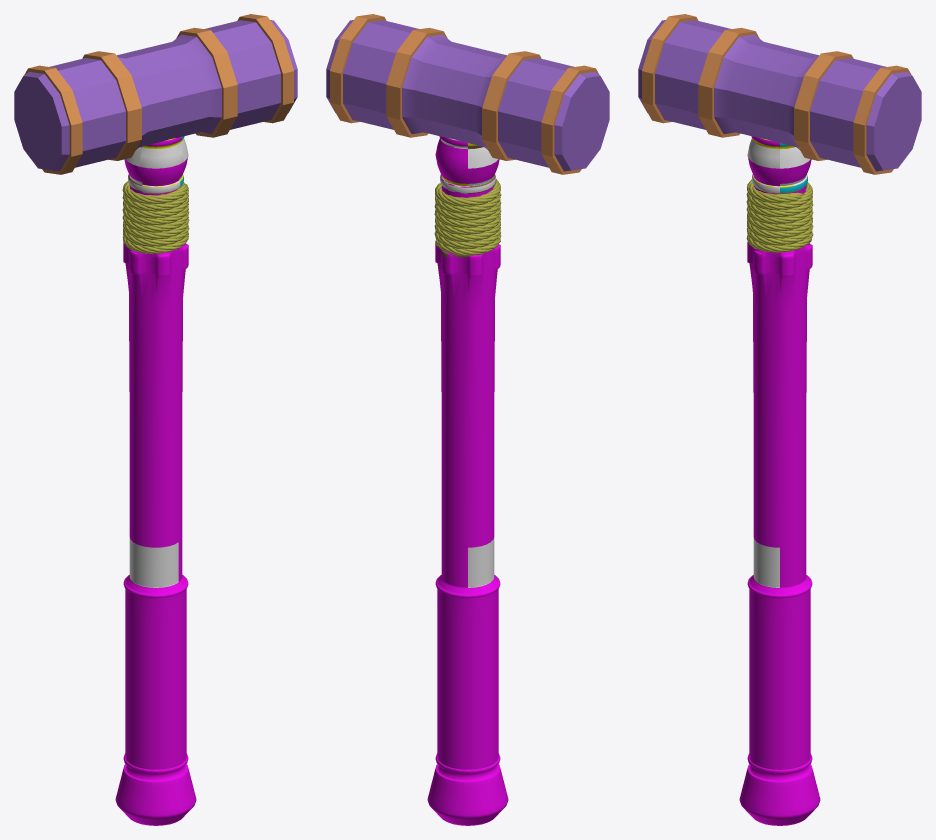
Rendered from WarhammerHP.fbx.
The picture shows the model from 3 angles, left to right: view 1: azimuth 30°, elevation 25°; view 2: azimuth 150°, elevation 25°; view 3: azimuth 330°, elevation 25°; orthographic projection.
Parts seen in each view (by area): view 1: Handle_id, Head_id, Rope_id; view 2: Handle_id, Head_id, Rope_id; view 3: Handle_id, Head_id, Rope_id.
Boxes of the visible parts, x1,y1,x2,y2 form: Handle_id: (115, 136, 196, 825); Head_id: (14, 14, 297, 174); Rope_id: (122, 181, 189, 253); Handle_id: (427, 136, 508, 825); Head_id: (326, 14, 609, 174); Rope_id: (434, 179, 501, 256); Handle_id: (739, 136, 820, 825); Head_id: (638, 14, 921, 174); Rope_id: (746, 179, 813, 252).
Size of the model in its own units: 7.96 by 24.82 by 3.12.
